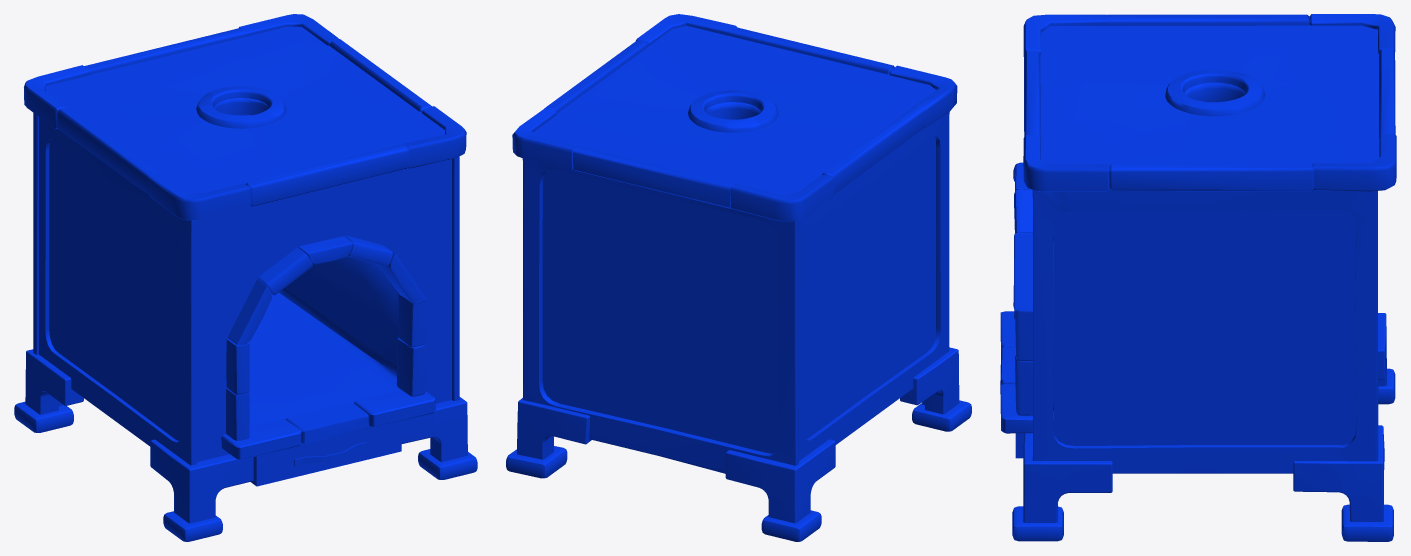
Rendered from SM_FurnanceStove_02.fbx.
3 renders of one model, left to right at view 1: azimuth 30°, elevation 25°; view 2: azimuth 150°, elevation 25°; view 3: azimuth 270°, elevation 25°, orthographic. The views are drawn at different scales.
Parts seen in each view (by area): view 1: SM_FurnaceStove_v02; view 2: SM_FurnaceStove_v02; view 3: SM_FurnaceStove_v02.
Part boxes in pixels (<box>): SM_FurnaceStove_v02: <box>14,14,477,541</box>; SM_FurnaceStove_v02: <box>506,14,971,541</box>; SM_FurnaceStove_v02: <box>1000,14,1396,541</box>.
Bounding box in the file's own units: 86.8 × 95.74 × 91.17.
